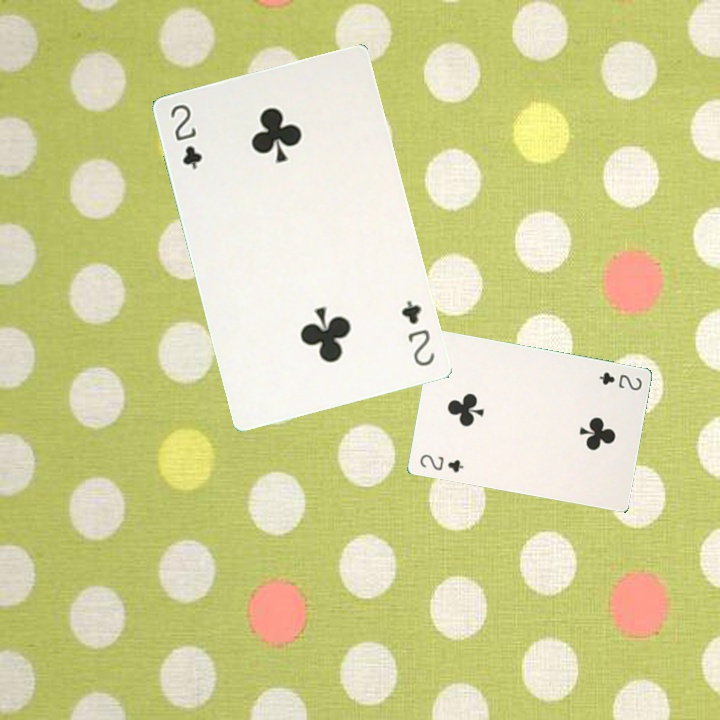2c: (397, 296, 437, 369), (166, 100, 205, 172), (416, 450, 466, 475), (595, 368, 644, 393)
